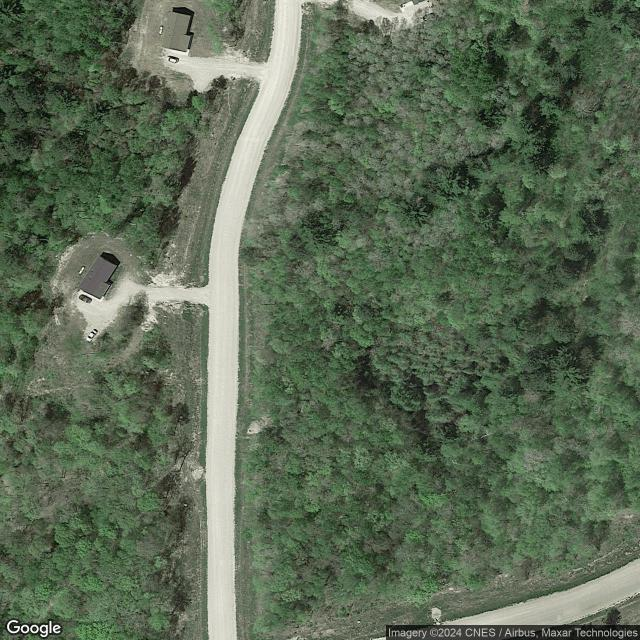Propane: (77, 264, 86, 276), (157, 25, 164, 36)
